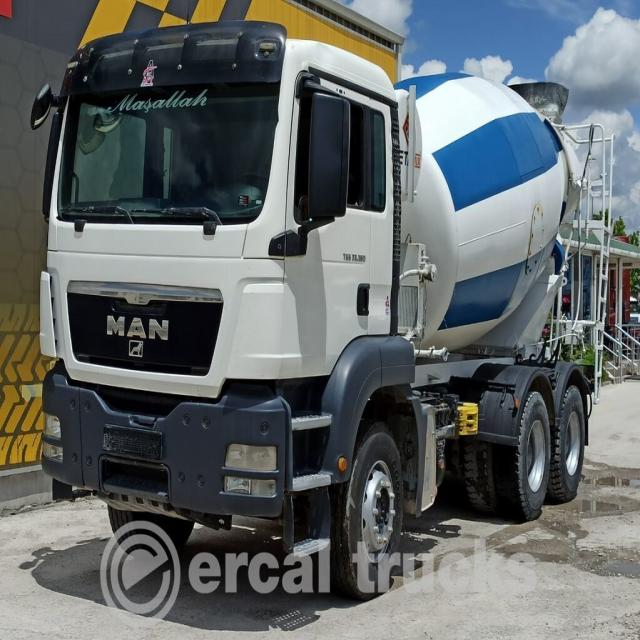Mixer Truck: (40, 22, 616, 601)
